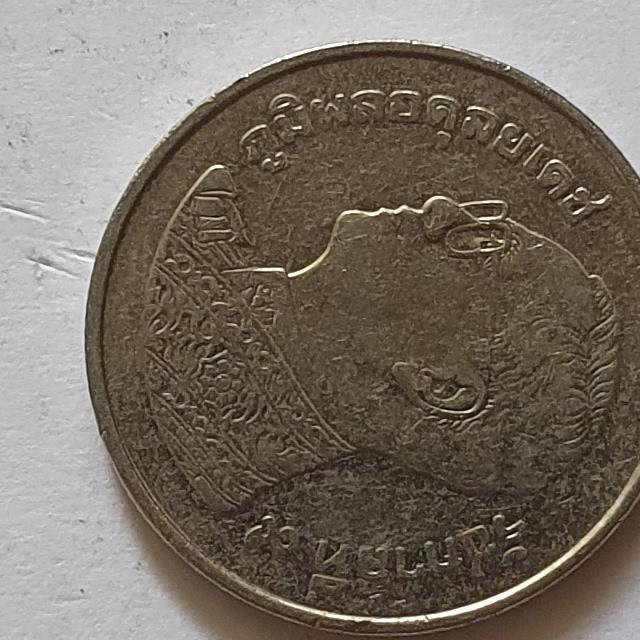1 Bath: (80, 34, 640, 640)
